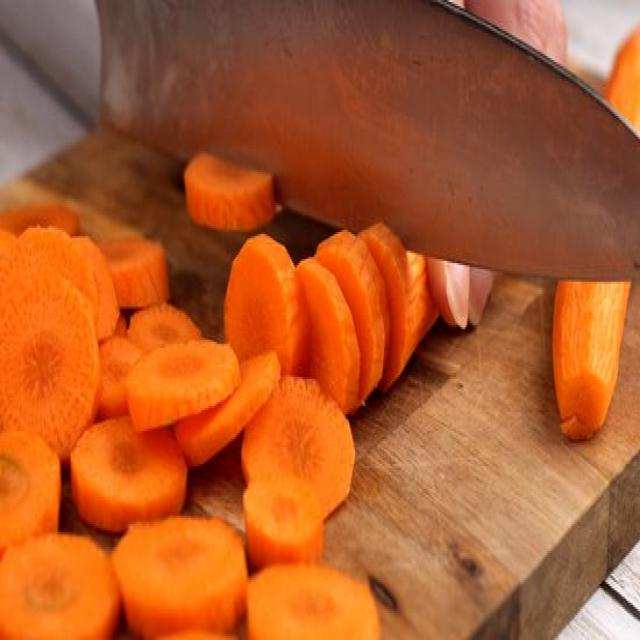ca rot: (0, 205, 492, 638), (553, 282, 630, 439), (185, 153, 279, 230), (604, 25, 639, 128)
